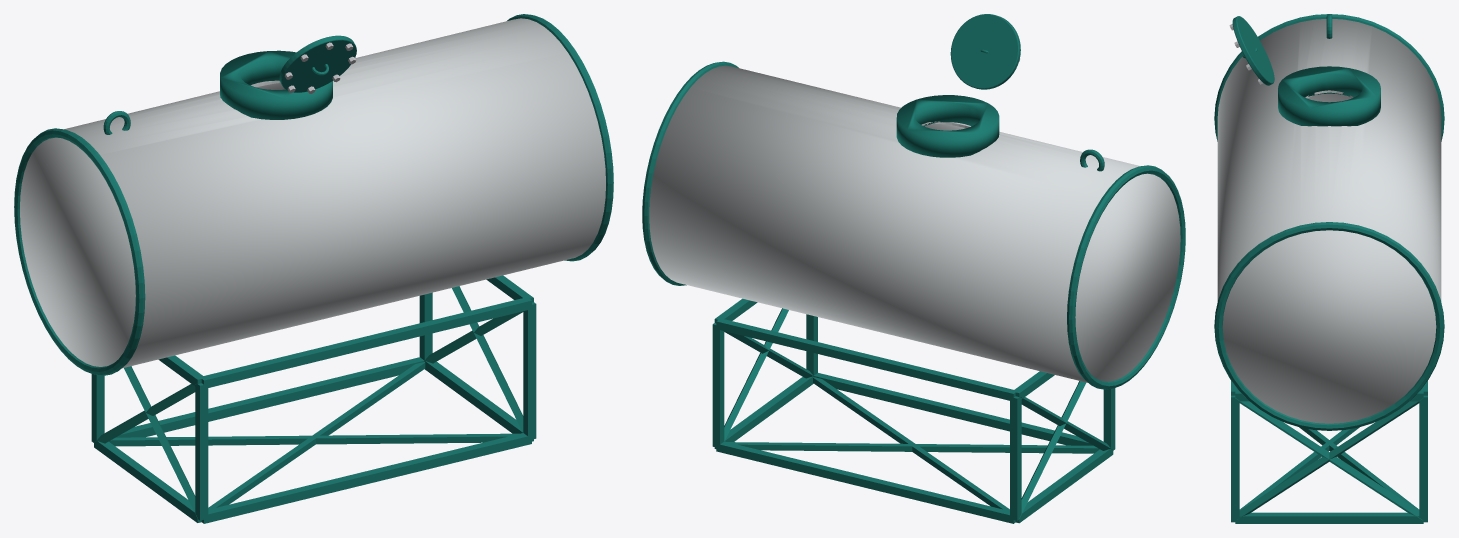
The model's file is tangki.glb.
3 renders of one model, left to right at view 1: azimuth 30°, elevation 25°; view 2: azimuth 150°, elevation 25°; view 3: azimuth 270°, elevation 25°, orthographic. The views are drawn at different scales.
Parts seen in each view (by area): view 1: TankKiri_Body, TankKiri_FlangeFront, TankKiri_Manhole_Ring, TankKiri_Stand_toprailL, TankKiri_Stand_railL, TankKiri_Stand_railR, TankKiri_Stand_xbrace2, TankKiri_Manhole_Lid, TankKiri_Stand_xbrace1, TankKiri_FlangeBack, TankKiri_Stand_legL_0.30, TankKiri_Stand_legL_1.70 (+8 smaller); view 2: TankKiri_Body, TankKiri_Manhole_Ring, TankKiri_Manhole_Lid, TankKiri_FlangeFront, TankKiri_Stand_toprailR, TankKiri_Stand_railR, TankKiri_Stand_railL, TankKiri_Stand_xbrace1, TankKiri_Stand_xbrace2, TankKiri_FlangeBack, TankKiri_Stand_legR_1.70, TankKiri_Stand_legR_0.30 (+7 smaller); view 3: TankKiri_Body, TankKiri_FlangeBack, TankKiri_Manhole_Ring, TankKiri_Stand_footbar_1.70, TankKiri_Stand_braceA_1.70, TankKiri_Stand_braceB_1.70, TankKiri_FlangeFront, TankKiri_Manhole_Lid, TankKiri_Stand_legL_1.70, TankKiri_Stand_legR_1.70, TankKiri_Stand_xbrace1, TankKiri_Stand_xbrace2.
Part boxes in pixels (x1,y1,x2,y2): TankKiri_Body: (20,18,605,368); TankKiri_FlangeFront: (14,128,145,375); TankKiri_Manhole_Ring: (220,50,332,119); TankKiri_Stand_toprailL: (201,297,531,387); TankKiri_Stand_railL: (201,433,531,523); TankKiri_Stand_railR: (116,357,424,437); TankKiri_Stand_xbrace2: (109,433,519,446); TankKiri_Manhole_Lid: (279,35,356,92); TankKiri_Stand_xbrace1: (208,362,425,509); TankKiri_FlangeBack: (507,14,613,261); TankKiri_Stand_legL_0.30: (195,383,208,520); TankKiri_Stand_legL_1.70: (523,302,536,439); TankKiri_Body: (649,65,1180,382); TankKiri_Manhole_Ring: (896,95,999,157); TankKiri_Manhole_Lid: (950,14,1020,89); TankKiri_FlangeFront: (1067,165,1185,389); TankKiri_Stand_toprailR: (716,318,1015,401); TankKiri_Stand_railR: (716,441,1015,523); TankKiri_Stand_railL: (813,373,1092,445); TankKiri_Stand_xbrace1: (727,442,1099,453); TankKiri_Stand_xbrace2: (813,377,1009,510); TankKiri_FlangeBack: (642,61,738,285); TankKiri_Stand_legR_1.70: (712,323,724,448); TankKiri_Stand_legR_0.30: (1010,396,1021,520); TankKiri_Body: (1217,19,1441,423); TankKiri_FlangeBack: (1214,222,1444,430); TankKiri_Manhole_Ring: (1278,66,1380,126); TankKiri_Stand_footbar_1.70: (1235,512,1423,523); TankKiri_Stand_braceA_1.70: (1236,398,1423,520); TankKiri_Stand_braceB_1.70: (1235,398,1422,520); TankKiri_FlangeFront: (1214,14,1444,141); TankKiri_Manhole_Lid: (1232,16,1274,85); TankKiri_Stand_legL_1.70: (1231,395,1239,519); TankKiri_Stand_legR_1.70: (1419,395,1427,519); TankKiri_Stand_xbrace1: (1299,427,1419,510); TankKiri_Stand_xbrace2: (1239,427,1359,510).
Bounding box in the file's own units: 2.04 × 1.85 × 0.936.
